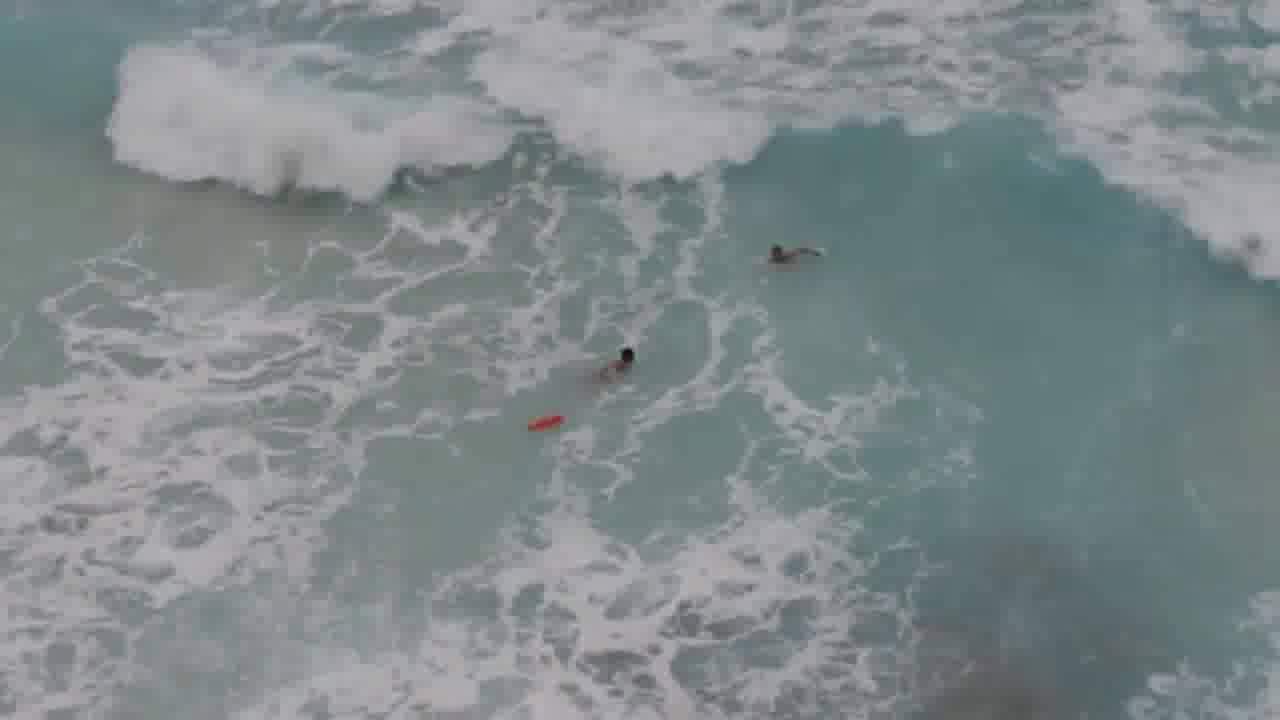human: (602, 337, 655, 374), (750, 244, 818, 264)
